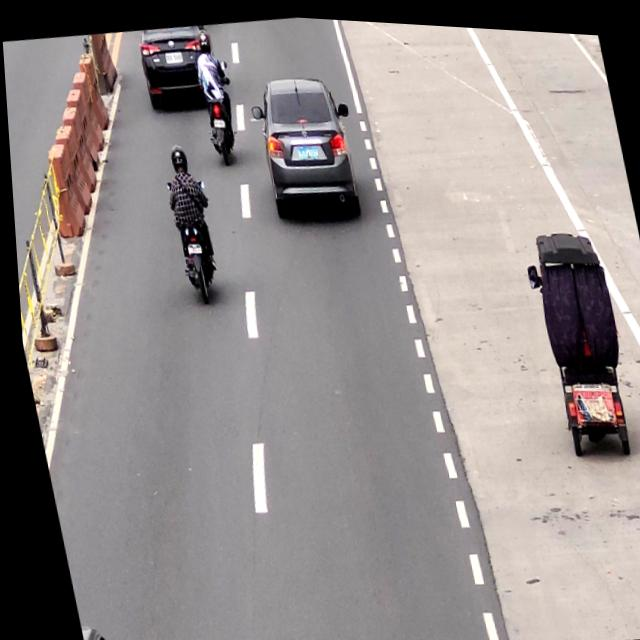Car: (251, 69, 362, 225), (132, 22, 203, 110), (72, 621, 127, 640)
License-Plate: (296, 139, 318, 157), (163, 48, 183, 62), (183, 240, 201, 255)
Motorcycle: (157, 141, 226, 308), (188, 27, 241, 162)
